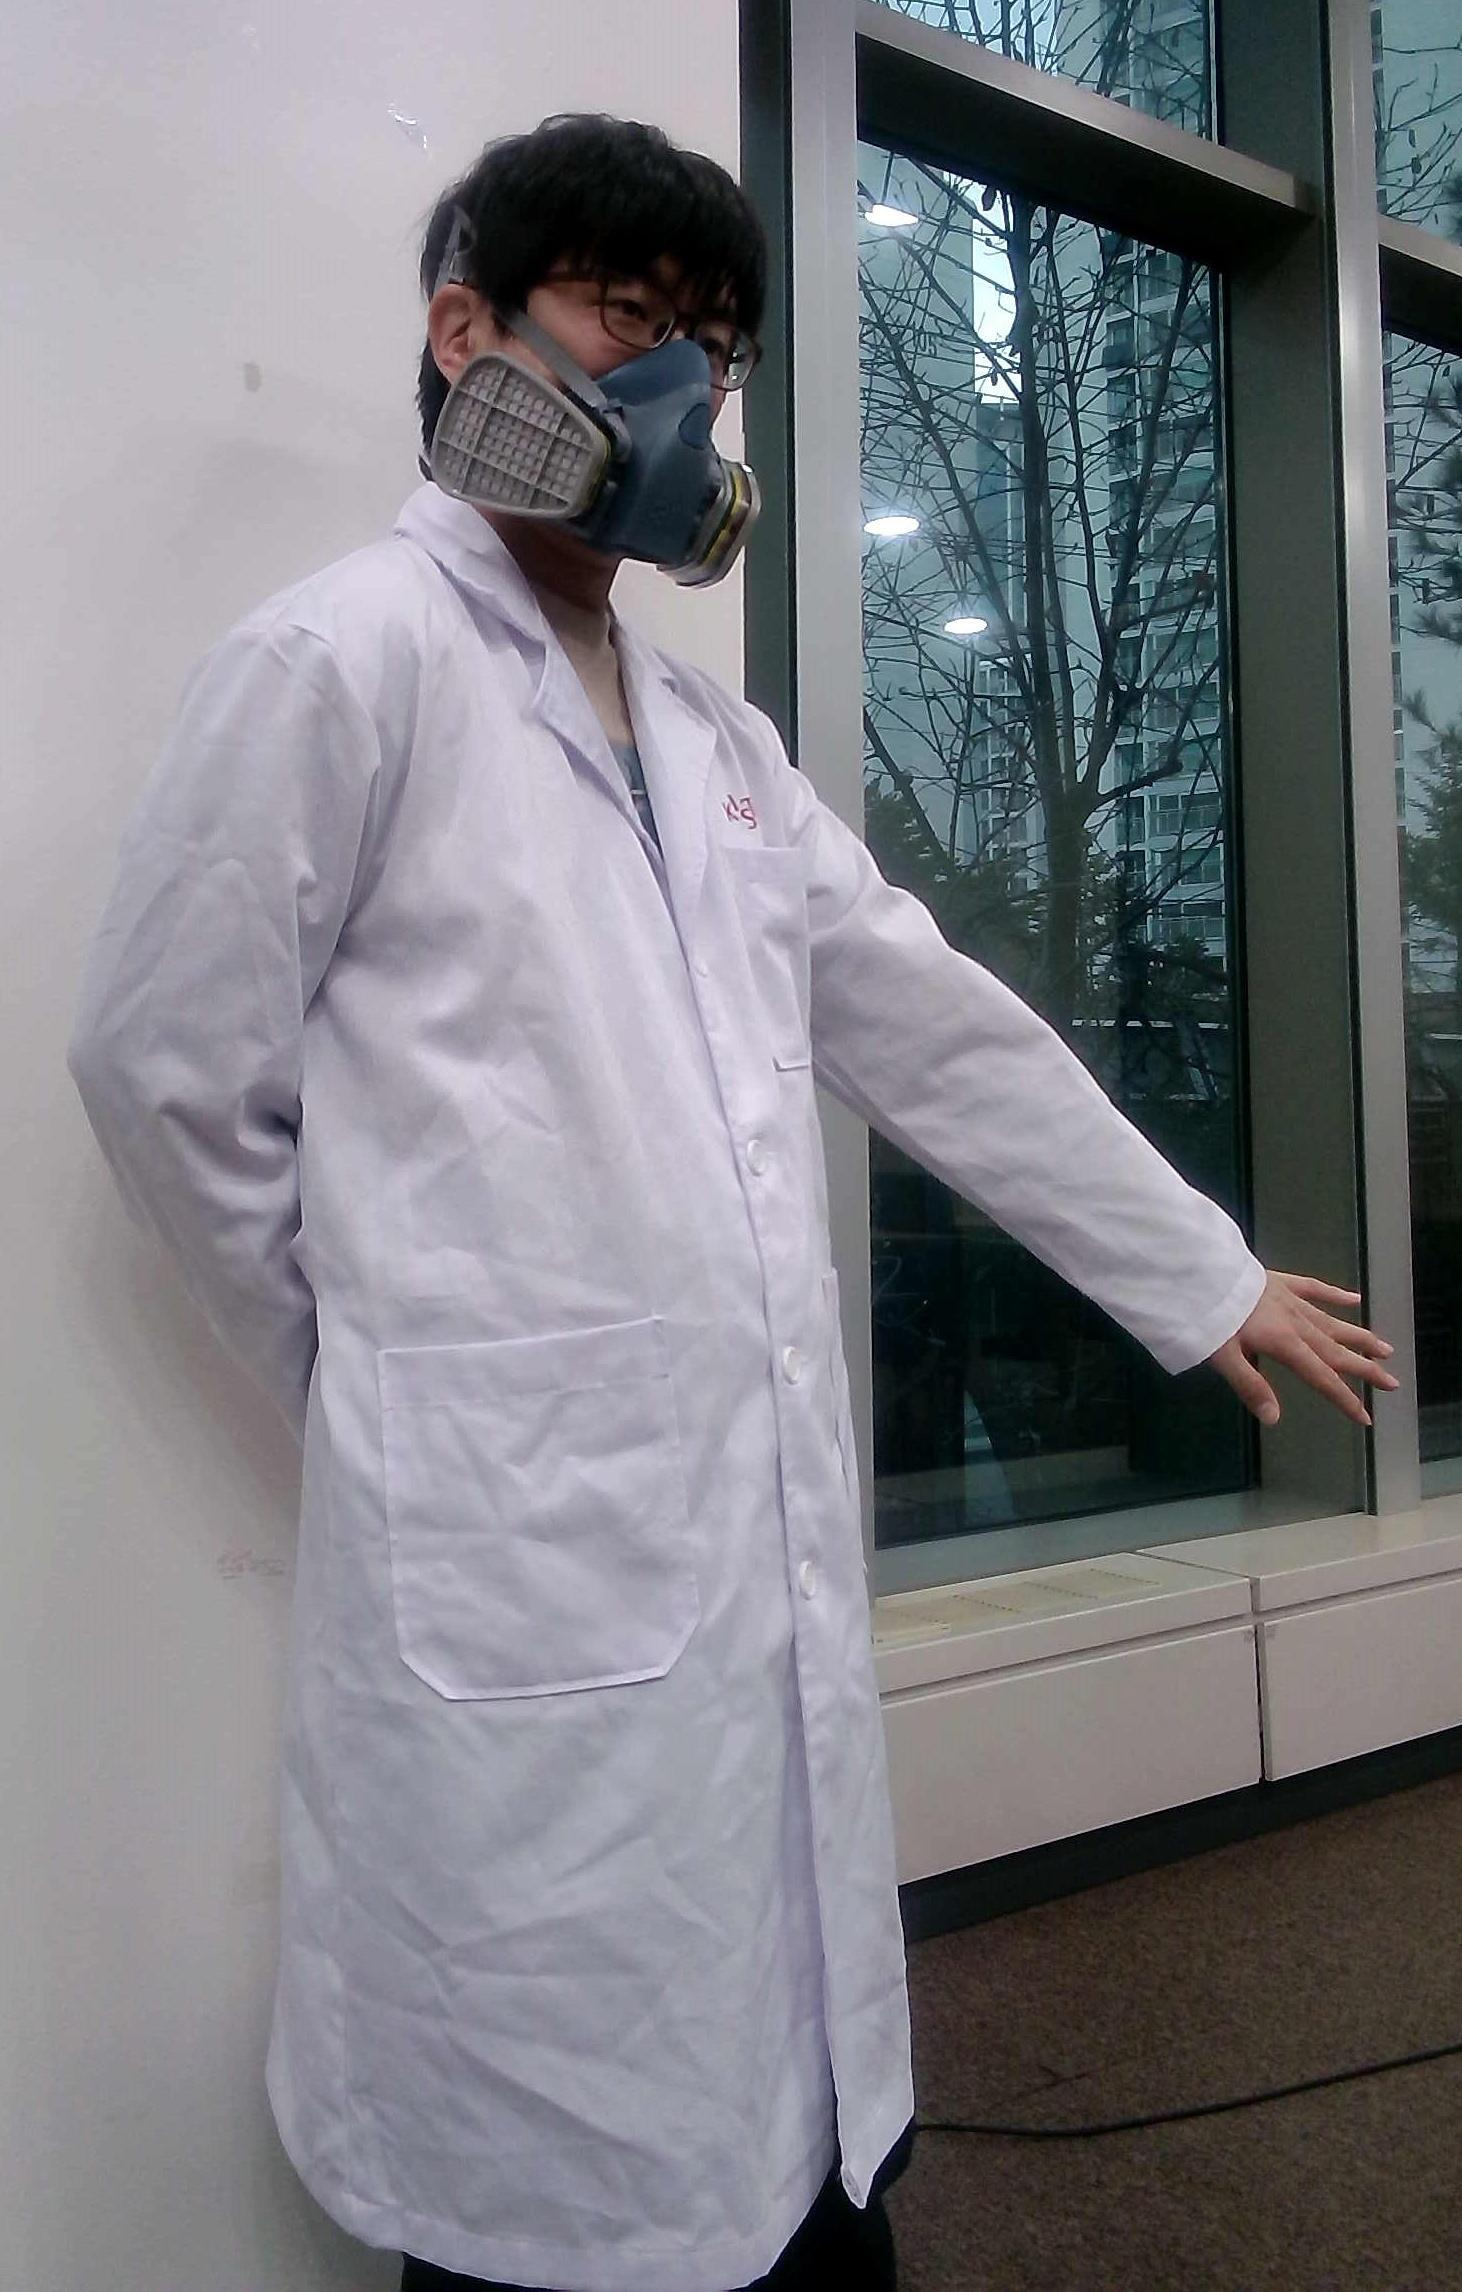lab_coat: (296, 561, 909, 2217)
